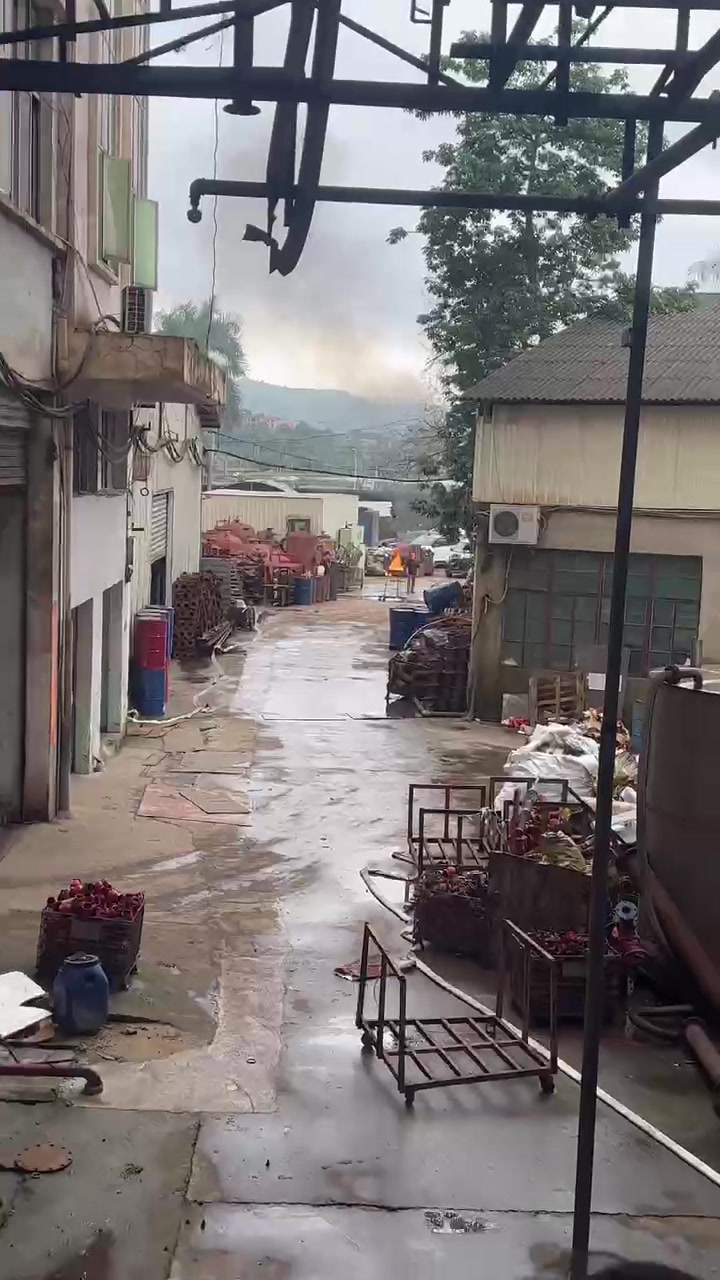fire: (389, 553, 402, 569)
